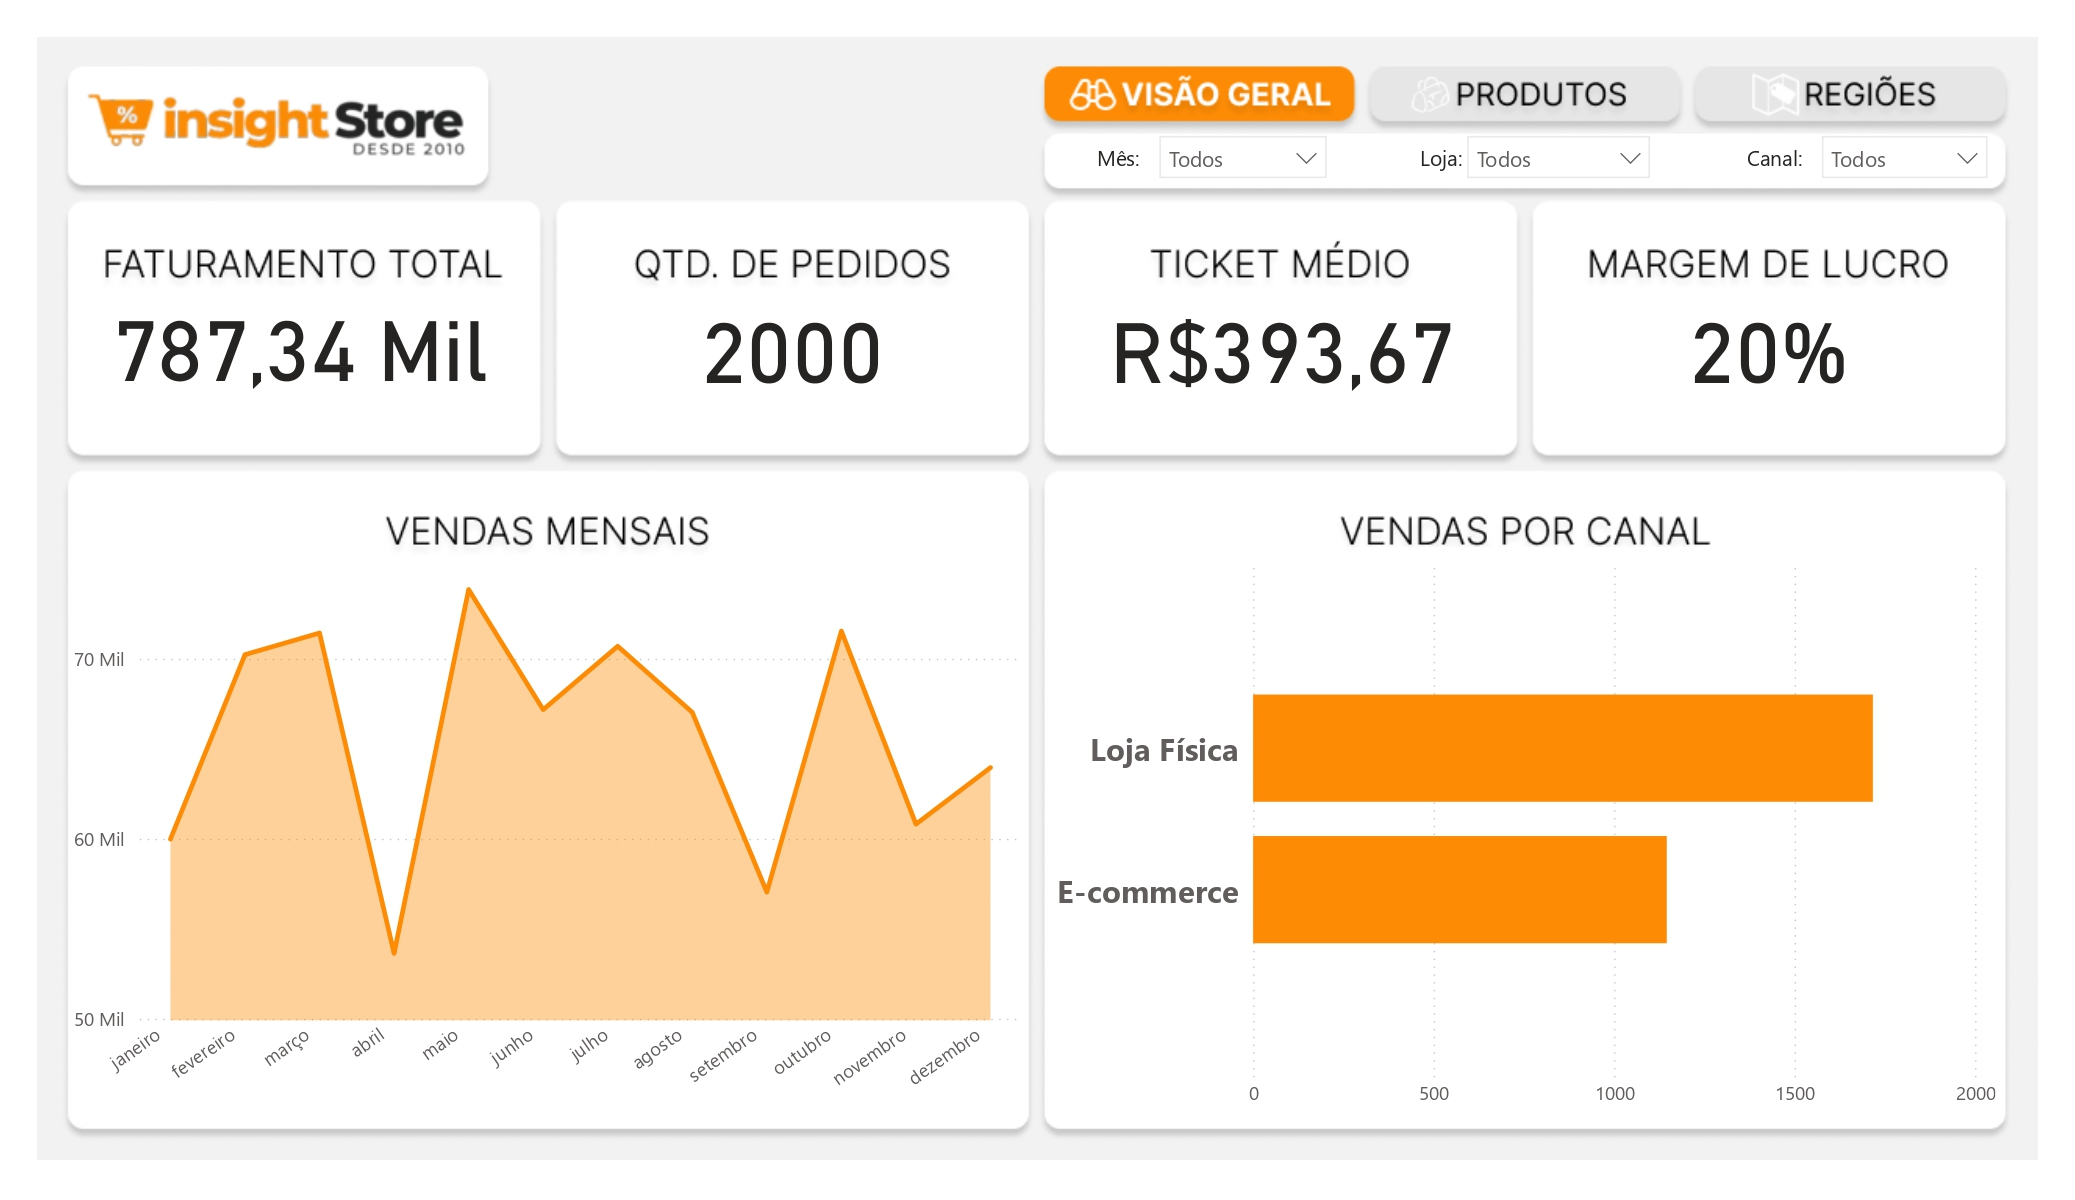

The dashboard page shown, as its layout file describes it:
{"tool":"powerbi","page":{"name":"VISÃO GERAL","canvas":[1280,720],"ordinal":0},"visuals":[{"type":"card","fields":{"Values":["Tabela_Medidas.Total_faturado"]},"box":[18.3,123.3,300,141.7],"z":0},{"type":"card","fields":{"Values":["Tabela_Medidas.Totaldepedidos"]},"box":[331.7,123.9,302.8,141.7],"z":1000},{"type":"card","fields":{"Values":["Tabela_Medidas.TicketMédio"]},"box":[645,123.6,303.6,142.1],"z":2000},{"type":"card","fields":{"Values":["Avg(vendas_ficticias_lojas_brasil123.profit_margin_pct)"]},"box":[956.9,123.8,302.3,142.3],"z":3000},{"type":"areaChart","fields":{"Category":["vendas_ficticias_lojas_brasil123.order_date.Variation.Hierarquia de datas.Mês"],"Y":["Tabela_Medidas.Total_faturado"]},"box":[18,326,616,368],"z":4000},{"type":"barChart","fields":{"Y":["Sum(vendas_ficticias_lojas_brasil123.quantity)"],"Category":["vendas_ficticias_lojas_brasil123.sales_channel"]},"box":[646,326,612,368],"z":5000},{"type":"slicer","fields":{"Values":["vendas_ficticias_lojas_brasil123.sales_channel"]},"box":[1131.7,53.3,126.7,48.3],"z":6000},{"type":"slicer","fields":{"Values":["vendas_ficticias_lojas_brasil123.store_city"]},"box":[905,53.3,136.7,48.3],"z":7000},{"type":"slicer","fields":{"Values":["vendas_ficticias_lojas_brasil123.order_date.Variation.Hierarquia de datas.Mês"]},"box":[708.3,53.3,126.7,48.3],"z":8000},{"type":"textbox","box":[673,63,107,34],"z":9000},{"type":"textbox","box":[880.4,62.8,47.5,30.6],"z":10000},{"type":"textbox","box":[1088.6,62.8,56.7,39.8],"z":11000},{"type":"actionButton","box":[856.7,13.3,185,40],"z":12000},{"type":"actionButton","box":[1073.3,13.3,185,40],"z":13000}]}

Visuals, with their boxes in screenshot pixels (x1, y1, x2, y2):
card - Tabela_Medidas.Total_faturado: x1=66 y1=230 x2=535 y2=452
card - Tabela_Medidas.Totaldepedidos: x1=556 y1=231 x2=1029 y2=453
card - Tabela_Medidas.TicketMédio: x1=1045 y1=231 x2=1520 y2=453
card - Avg(vendas_ficticias_lojas_brasil123.profit_margin_pct): x1=1533 y1=231 x2=2005 y2=453
areaChart - vendas_ficticias_lojas_brasil123.order_date.Variation.Hierarquia de datas.Mês x Tabela_Medidas.Total_faturado: x1=66 y1=547 x2=1028 y2=1122
barChart - Sum(vendas_ficticias_lojas_brasil123.quantity) x vendas_ficticias_lojas_brasil123.sales_channel: x1=1047 y1=547 x2=2003 y2=1122
slicer - vendas_ficticias_lojas_brasil123.sales_channel: x1=1806 y1=121 x2=2004 y2=196
slicer - vendas_ficticias_lojas_brasil123.store_city: x1=1452 y1=121 x2=1665 y2=196
slicer - vendas_ficticias_lojas_brasil123.order_date.Variation.Hierarquia de datas.Mês: x1=1144 y1=121 x2=1342 y2=196
textbox: x1=1089 y1=136 x2=1256 y2=189
textbox: x1=1413 y1=136 x2=1487 y2=183
textbox: x1=1738 y1=136 x2=1827 y2=198
actionButton: x1=1376 y1=58 x2=1665 y2=121
actionButton: x1=1715 y1=58 x2=2004 y2=121
